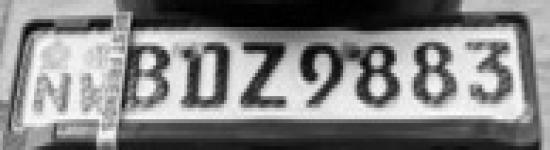3: (464, 41, 514, 106)
8: (408, 40, 460, 108), (358, 44, 401, 108)
9: (301, 42, 344, 107)
B: (128, 47, 170, 105)
D: (176, 38, 234, 112)
N: (36, 73, 70, 112)
W: (82, 75, 110, 110)
Z: (240, 42, 288, 110)
